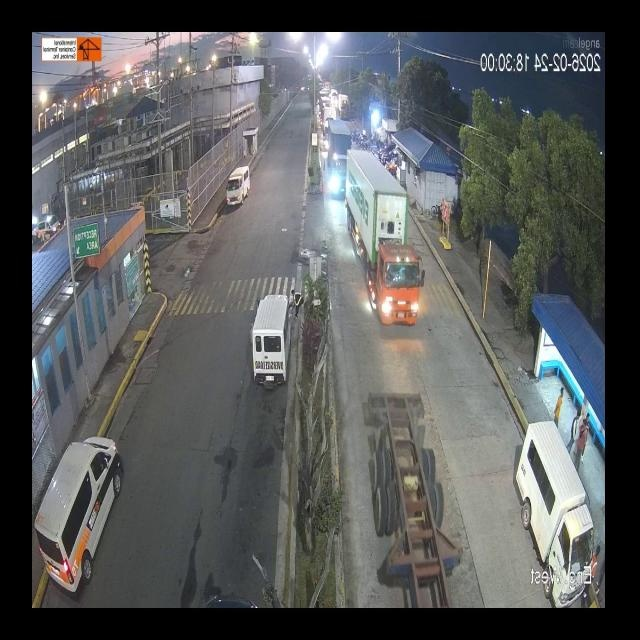car: (37, 431, 125, 589), (510, 433, 586, 565), (246, 292, 294, 410), (225, 160, 253, 206)
truck: (213, 143, 420, 343), (286, 113, 349, 203), (339, 96, 352, 128)
